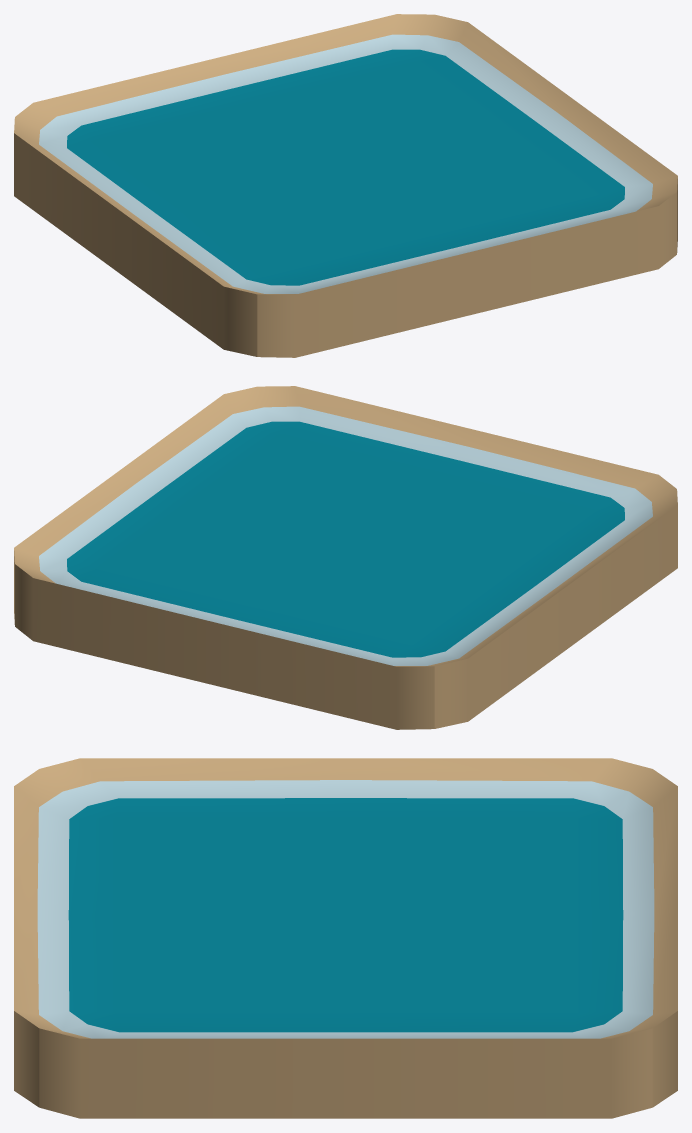
Rendered from Tile_Water.fbx.
3 renders of one model, top to bottom at view 1: azimuth 30°, elevation 25°; view 2: azimuth 150°, elevation 25°; view 3: azimuth 270°, elevation 25°, orthographic. The views are drawn at different scales.
Parts seen in each view (by area): view 1: polySurface3; view 2: polySurface3; view 3: polySurface3.
Boxes of the visible parts, x1,y1,x2,y2 form: polySurface3: (14,14,677,357); polySurface3: (14,386,677,729); polySurface3: (14,758,677,1118).
Size of the model in its own units: 0.3937 by 0.0523 by 0.3937.
